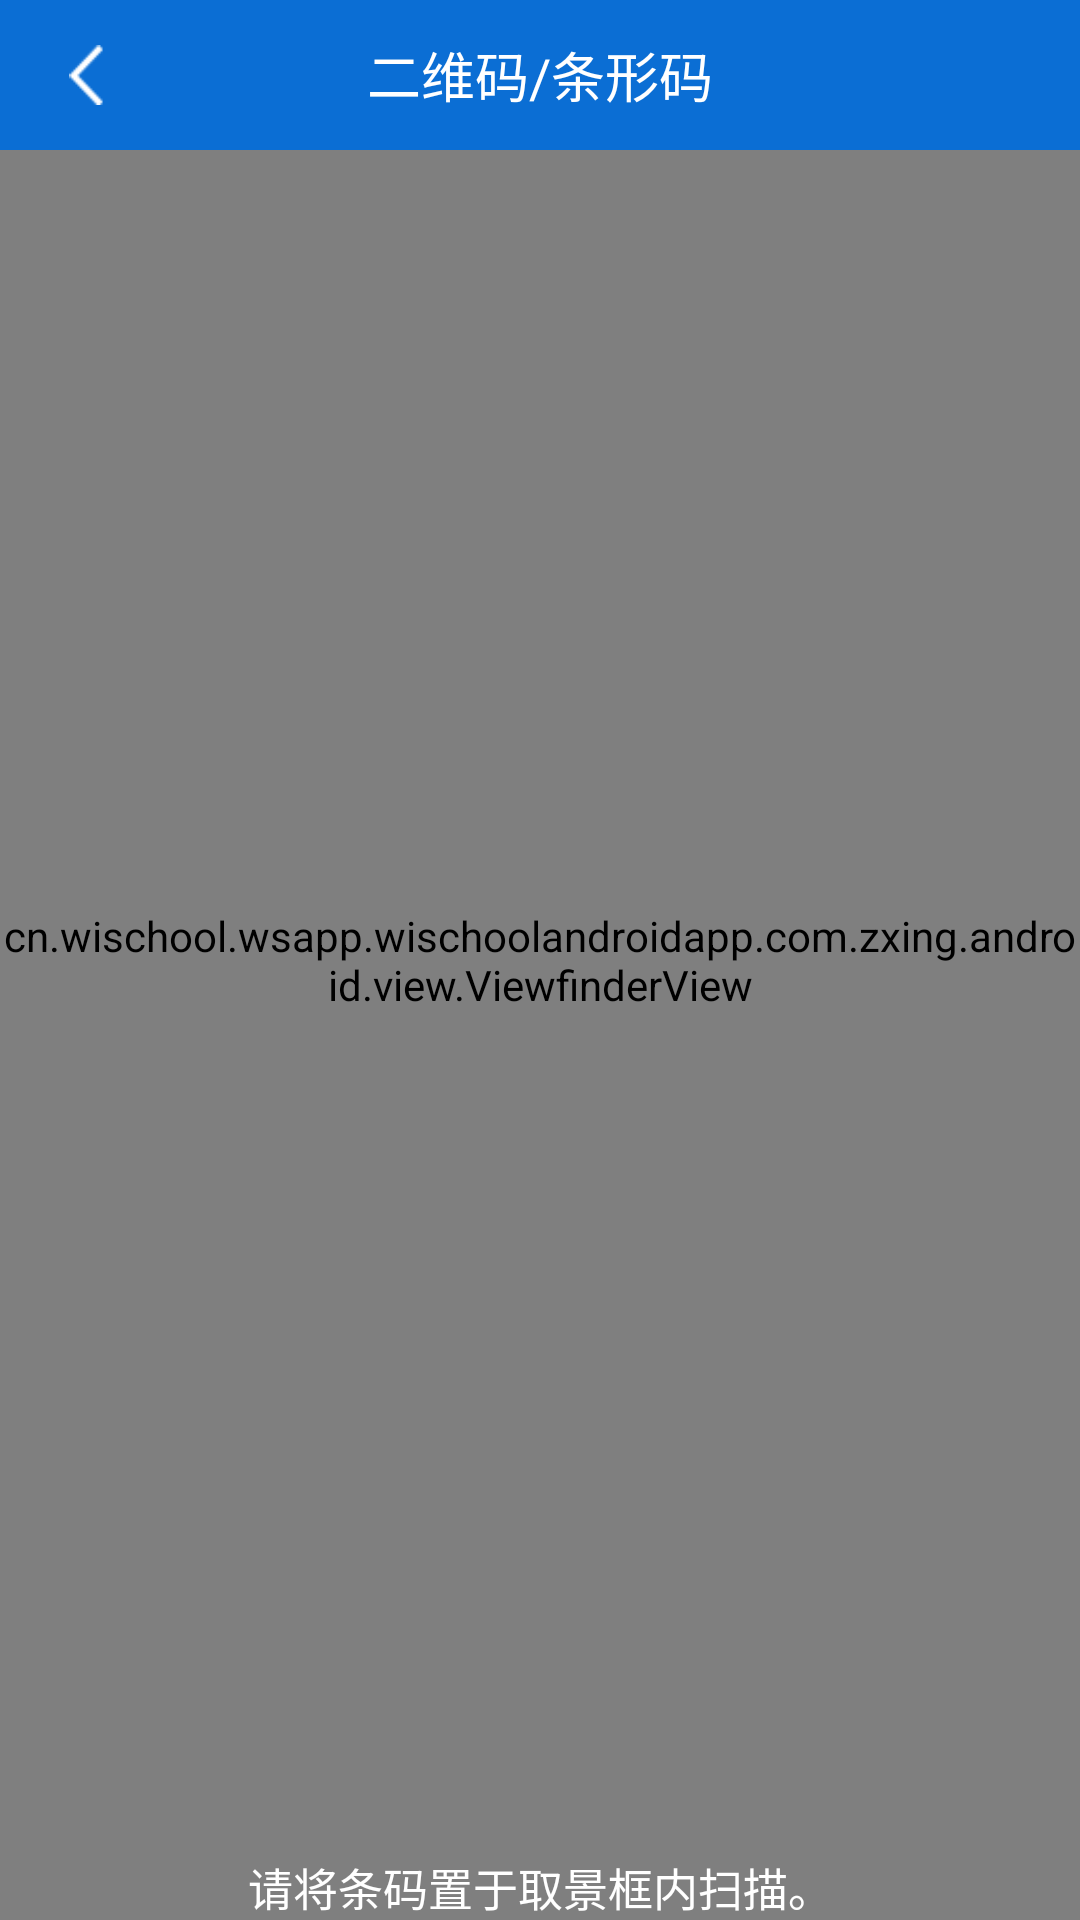

Point at icon controls on the screen. Image size 1080px×1920px, points as (x,y).
arrow back: (86,75)
